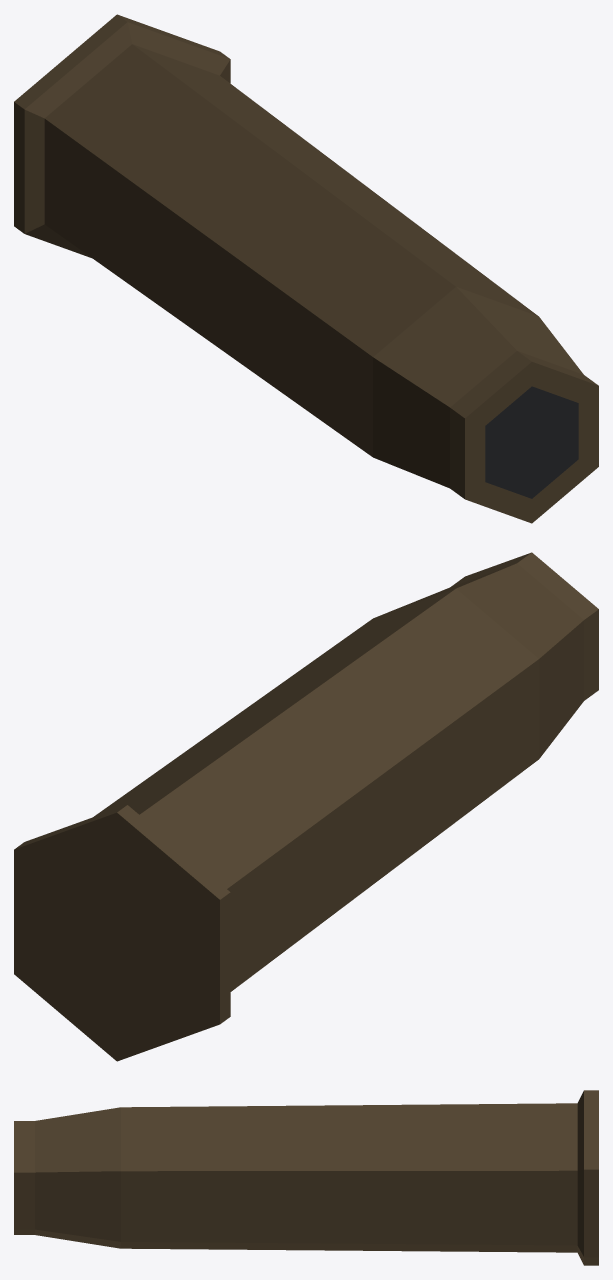
Rendered from SM_Prop_Shell_02.fbx.
3 views of the same model, one above another, from view 1: azimuth 30°, elevation 25°; view 2: azimuth 150°, elevation 25°; view 3: azimuth 270°, elevation 25° (orthographic). The views are drawn at different scales.
Visible parts, largest first — view 1: SM_Prop_Shell_02; view 2: SM_Prop_Shell_02; view 3: SM_Prop_Shell_02.
Part boxes in pixels (x1,y1,x2,y2): SM_Prop_Shell_02: (14,14,598,523); SM_Prop_Shell_02: (14,552,598,1061); SM_Prop_Shell_02: (14,1090,598,1265).
Bounding box in the file's own units: 22.24 × 25.68 × 77.58.
